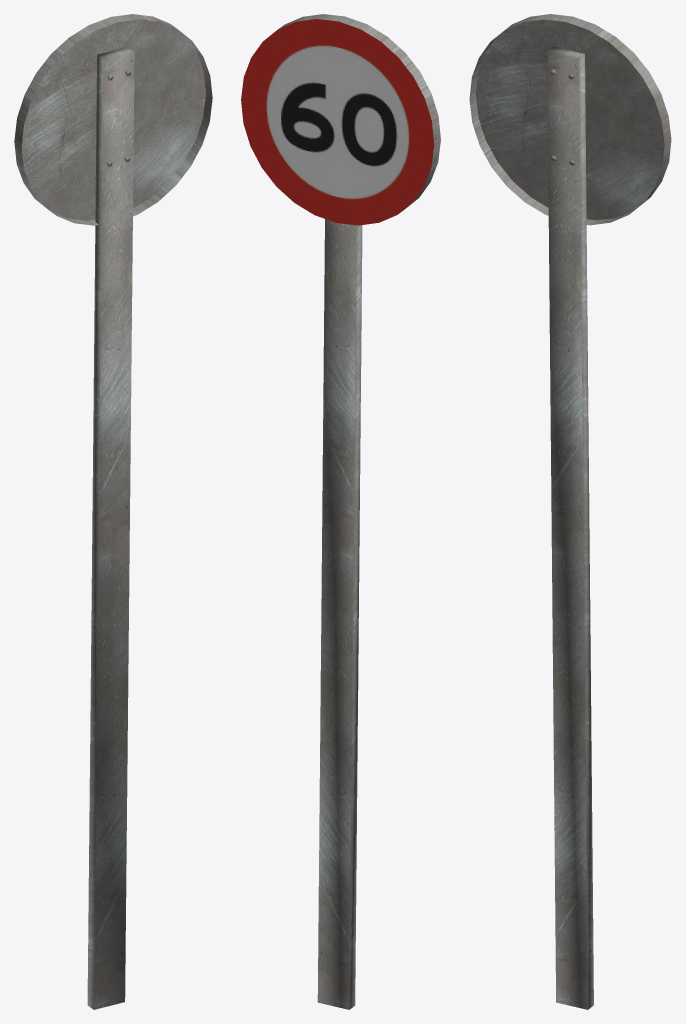
3 views of the same model, side by side, from view 1: azimuth 30°, elevation 25°; view 2: azimuth 150°, elevation 25°; view 3: azimuth 330°, elevation 25° (orthographic).
Visible parts, largest first — view 1: Pole_57, _0_pivot3; view 2: _03, Pole_57, _0_pivot3; view 3: Pole_57, _0_pivot3.
Part boxes in pixels (x1=…): Pole_57: x1=87, y1=47, x2=134, y2=1009; _0_pivot3: x1=14, y1=14, x2=212, y2=225; _03: x1=241, y1=19, x2=434, y2=225; Pole_57: x1=317, y1=219, x2=362, y2=1009; _0_pivot3: x1=279, y1=14, x2=440, y2=212; Pole_57: x1=547, y1=46, x2=593, y2=1009; _0_pivot3: x1=469, y1=14, x2=671, y2=225.
Bounding box in the file's own units: 0.5199 × 2.54 × 0.078.
Materials: 2 (2 with a texture image).
